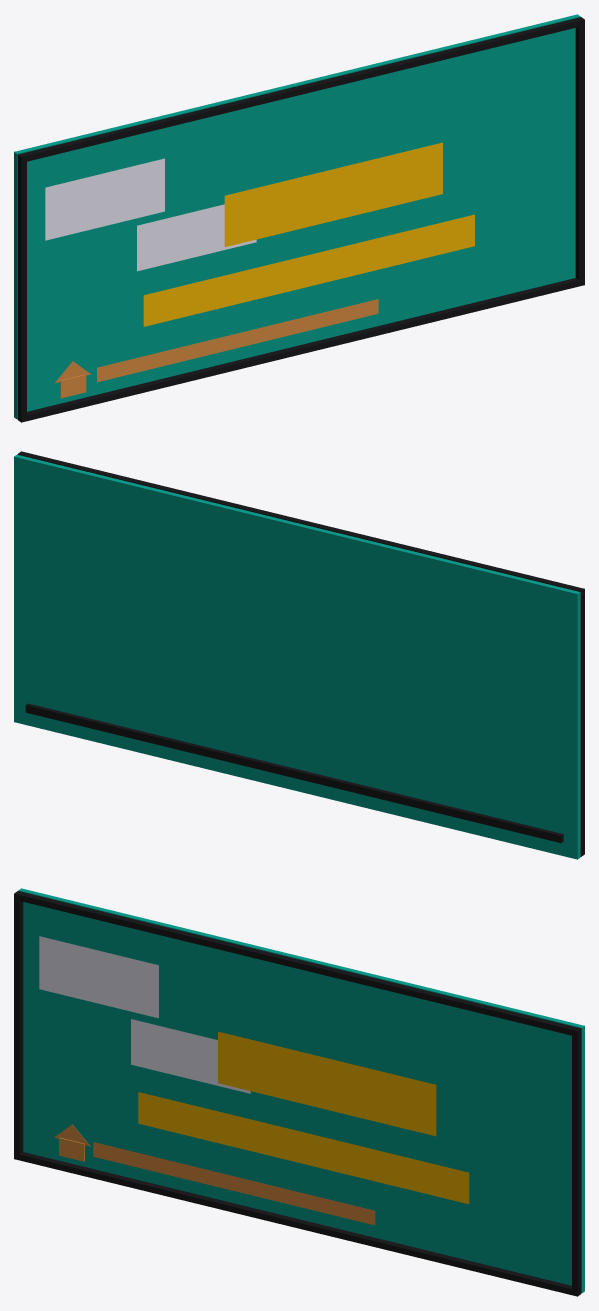
The model's file is Chữ inox hông lổ gắn đá arylic LED.obj.
The picture shows the model from 3 angles, top to bottom: view 1: azimuth 30°, elevation 25°; view 2: azimuth 150°, elevation 25°; view 3: azimuth 330°, elevation 25°; orthographic projection.
Parts seen in each view (by area): view 1: Nen_ton_xanh_ngoc, Chu_CO_HAU, Huong_vi_Ha_Thanh, Chu_BUN, Vien_tren, Vien_duoi, Dia_chi, Chu_DAU, Vien_trai, Vien_phai; view 2: Nen_ton_xanh_ngoc, Thanh_ngang_sau, Vien_tren, Vien_trai; view 3: Nen_ton_xanh_ngoc, Chu_CO_HAU, Huong_vi_Ha_Thanh, Chu_BUN, Vien_tren, Vien_duoi, Dia_chi, Chu_DAU, Vien_phai, Vien_trai.
Part boxes in pixels (x1=…): Nen_ton_xanh_ngoc: x1=14, y1=14, x2=580, y2=419; Chu_CO_HAU: x1=224, y1=142, x2=442, y2=246; Huong_vi_Ha_Thanh: x1=143, y1=214, x2=474, y2=326; Chu_BUN: x1=45, y1=158, x2=164, y2=240; Vien_tren: x1=17, y1=17, x2=584, y2=162; Vien_duoi: x1=17, y1=278, x2=584, y2=422; Dia_chi: x1=97, y1=299, x2=378, y2=382; Chu_DAU: x1=137, y1=204, x2=256, y2=271; Vien_trai: x1=17, y1=153, x2=26, y2=421; Vien_phai: x1=575, y1=17, x2=584, y2=284; Nen_ton_xanh_ngoc: x1=14, y1=454, x2=580, y2=859; Thanh_ngang_sau: x1=25, y1=703, x2=563, y2=842; Vien_tren: x1=17, y1=451, x2=584, y2=596; Vien_trai: x1=578, y1=588, x2=584, y2=856; Nen_ton_xanh_ngoc: x1=18, y1=888, x2=584, y2=1293; Chu_CO_HAU: x1=218, y1=1031, x2=436, y2=1136; Huong_vi_Ha_Thanh: x1=138, y1=1092, x2=469, y2=1204; Chu_BUN: x1=39, y1=936, x2=158, y2=1018; Vien_tren: x1=14, y1=891, x2=581, y2=1036; Vien_duoi: x1=14, y1=1152, x2=581, y2=1296; Dia_chi: x1=93, y1=1142, x2=375, y2=1225; Chu_DAU: x1=131, y1=1019, x2=250, y2=1093; Vien_phai: x1=572, y1=1027, x2=581, y2=1296; Vien_trai: x1=14, y1=891, x2=23, y2=1160.
Size of the model in its own units: 4 by 1.8 by 0.12.
